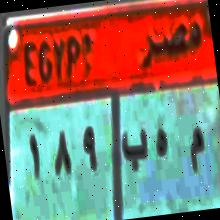1: (23, 127, 45, 186)
8: (46, 125, 74, 190)
9: (80, 122, 102, 178)
baa: (120, 124, 152, 180)
haa: (150, 122, 172, 168)
meem: (182, 117, 208, 177)
